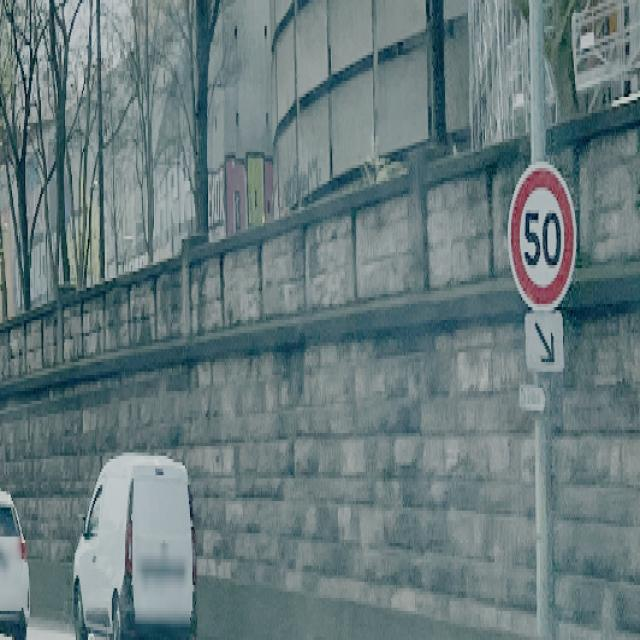speed_50: (508, 165, 578, 311)
